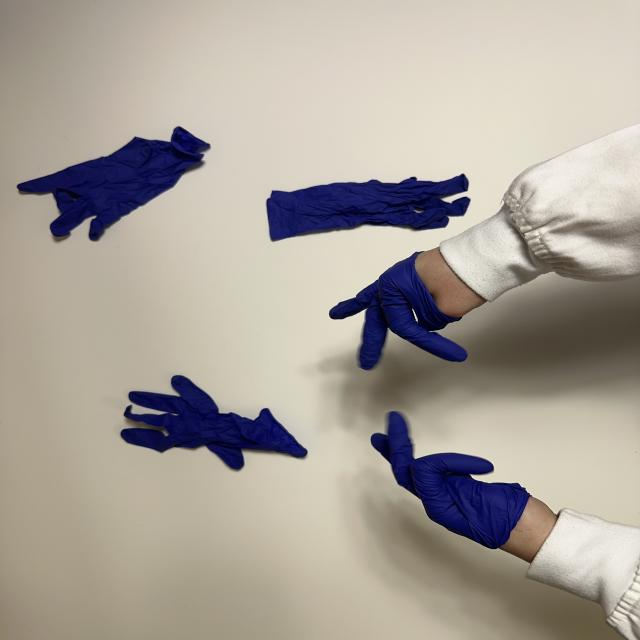glove_not_fitted: (369, 410, 561, 562), (328, 247, 491, 371)
